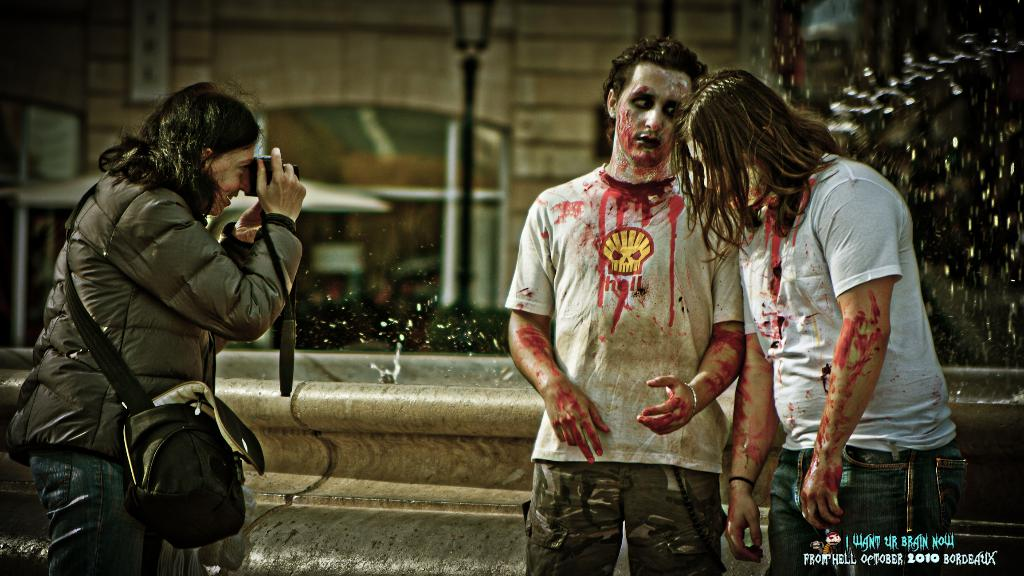Person: (682, 69, 959, 572)
